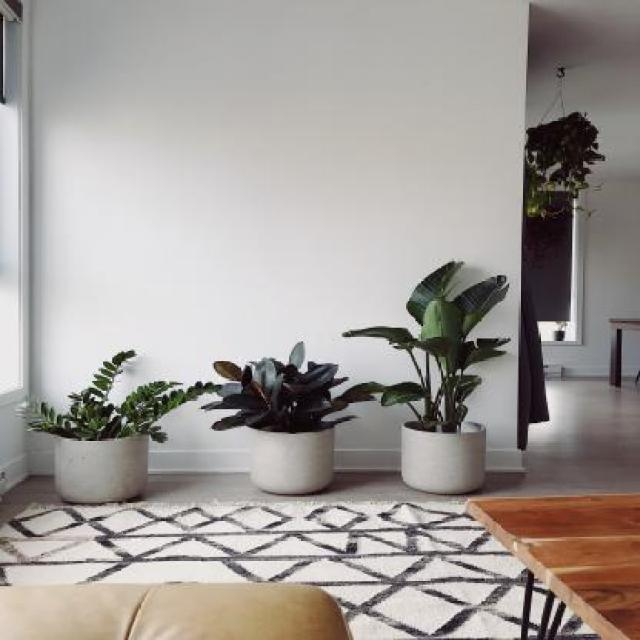Floor: (119, 376, 640, 505), (0, 475, 81, 527)
